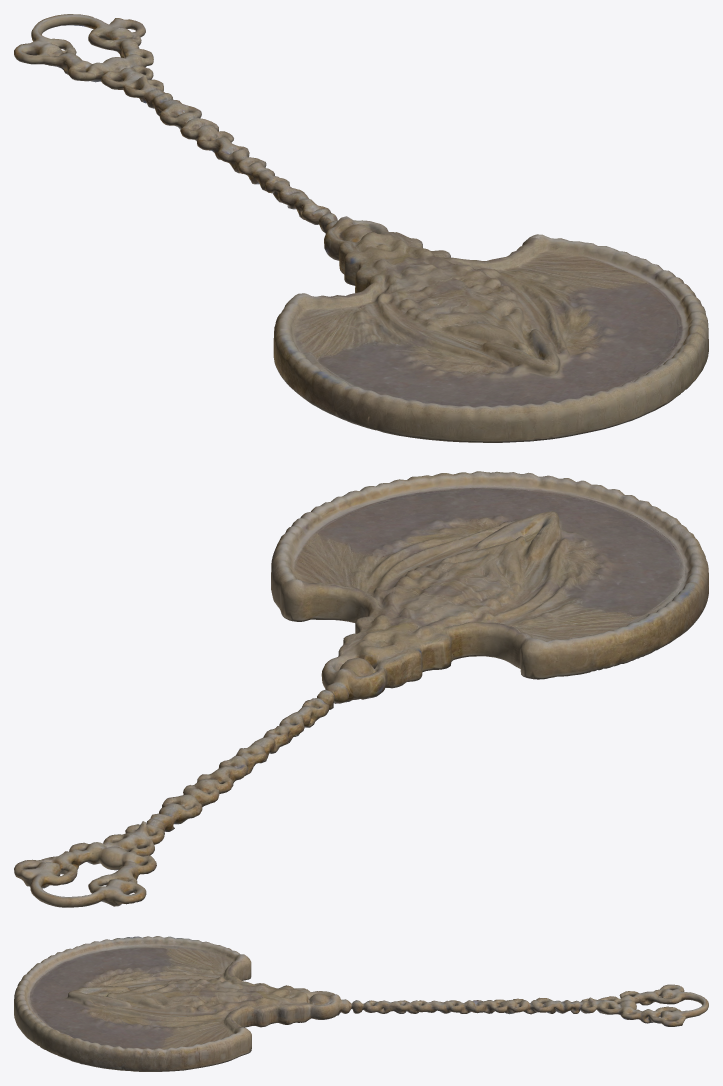
The picture shows the model from 3 angles, top to bottom: view 1: azimuth 30°, elevation 25°; view 2: azimuth 150°, elevation 25°; view 3: azimuth 270°, elevation 25°; orthographic projection. The views are drawn at different scales.
Visible parts, largest first — view 1: file1; view 2: file1; view 3: file1.
Boxes of the visible parts, x1,y1,x2,y2 form: file1: (14,14,708,442); file1: (14,471,708,907); file1: (14,936,708,1071).
Bounding box in the file's own units: 0.8029 × 0.0801 × 2.
Materials: 1 (1 with a texture image).
